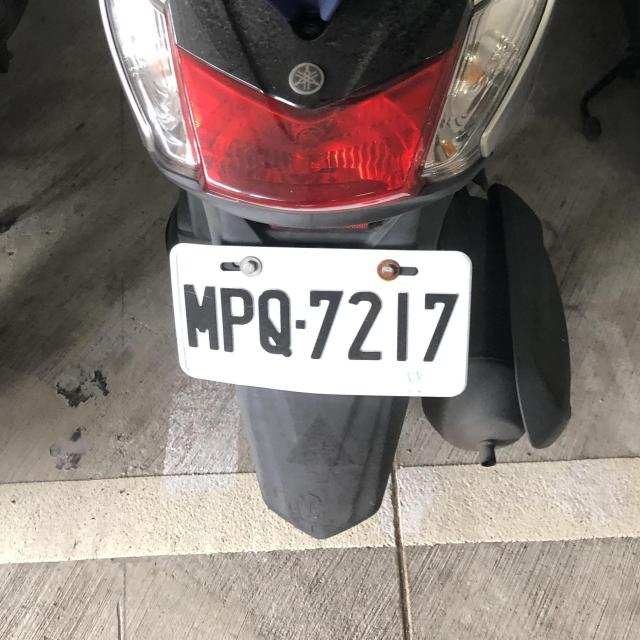W: (162, 237, 473, 398)
